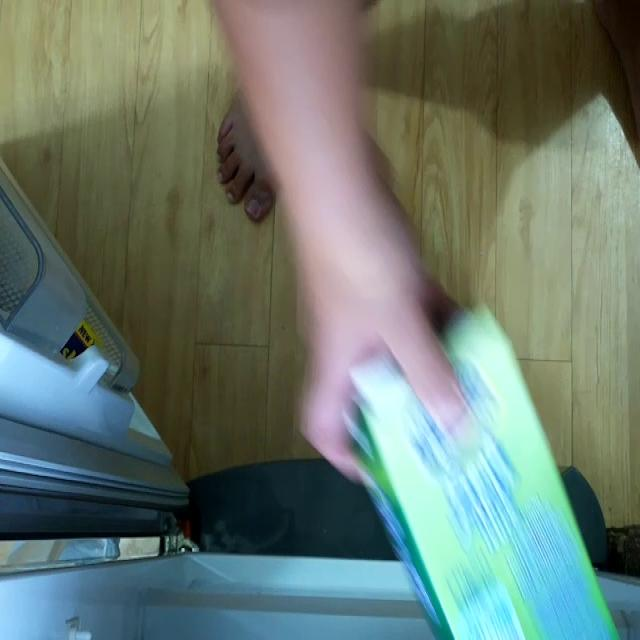milk: (348, 306, 618, 640)
